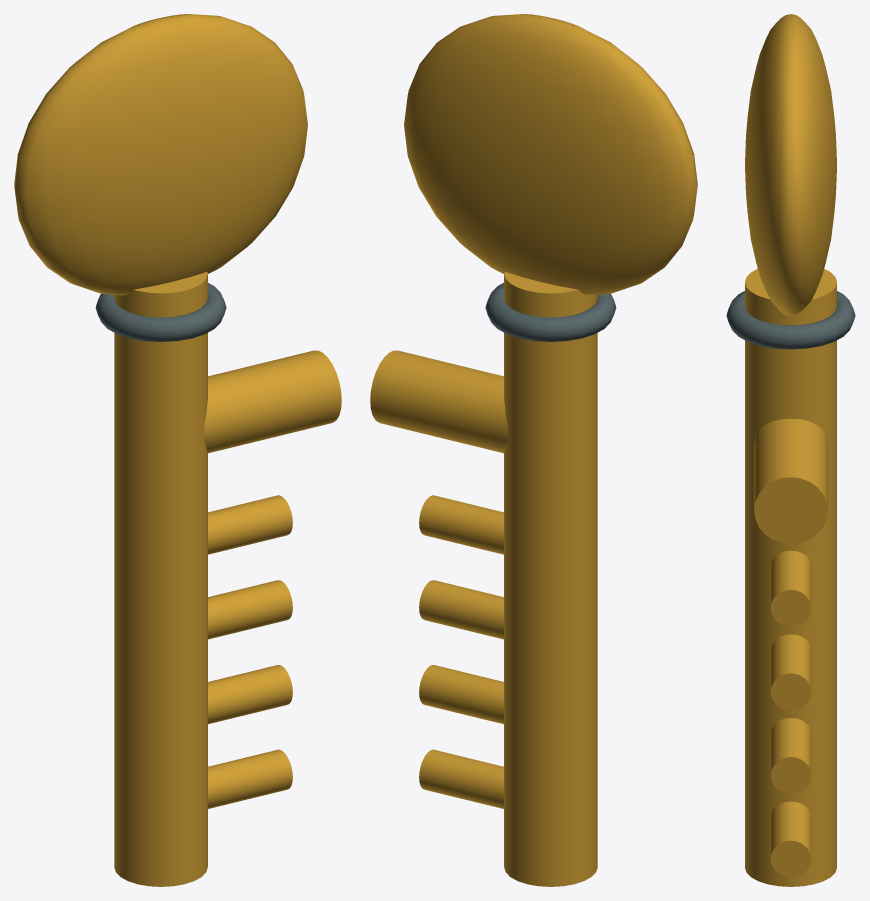
Rendered from Key.obj.
3 views of the same model, side by side, from view 1: azimuth 30°, elevation 25°; view 2: azimuth 150°, elevation 25°; view 3: azimuth 270°, elevation 25° (orthographic).
Visible parts, largest first — view 1: Key; view 2: Key; view 3: Key.
Part boxes in pixels (bbox=[...]): Key: bbox=[14, 14, 341, 886]; Key: bbox=[370, 14, 697, 886]; Key: bbox=[726, 14, 855, 886].
Bounding box in the file's own units: 0.19 × 0.5 × 0.07.
